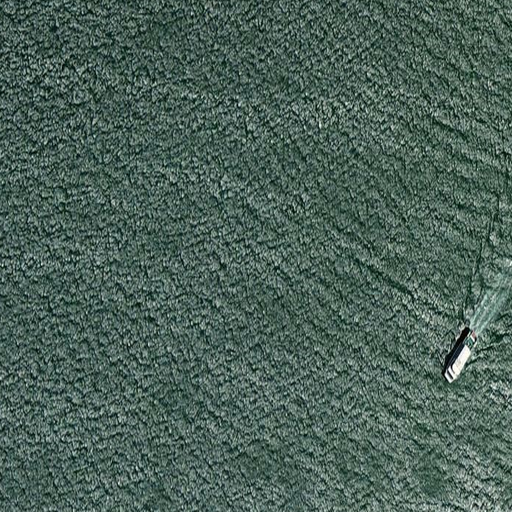ship: (439, 325, 481, 386)
